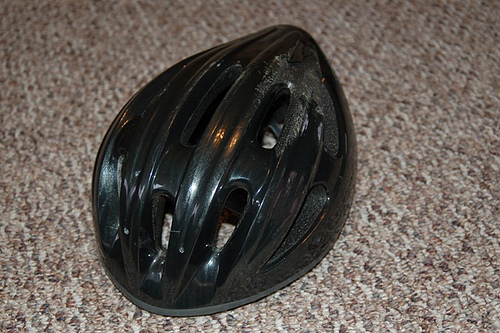helmet: (104, 49, 356, 296)
